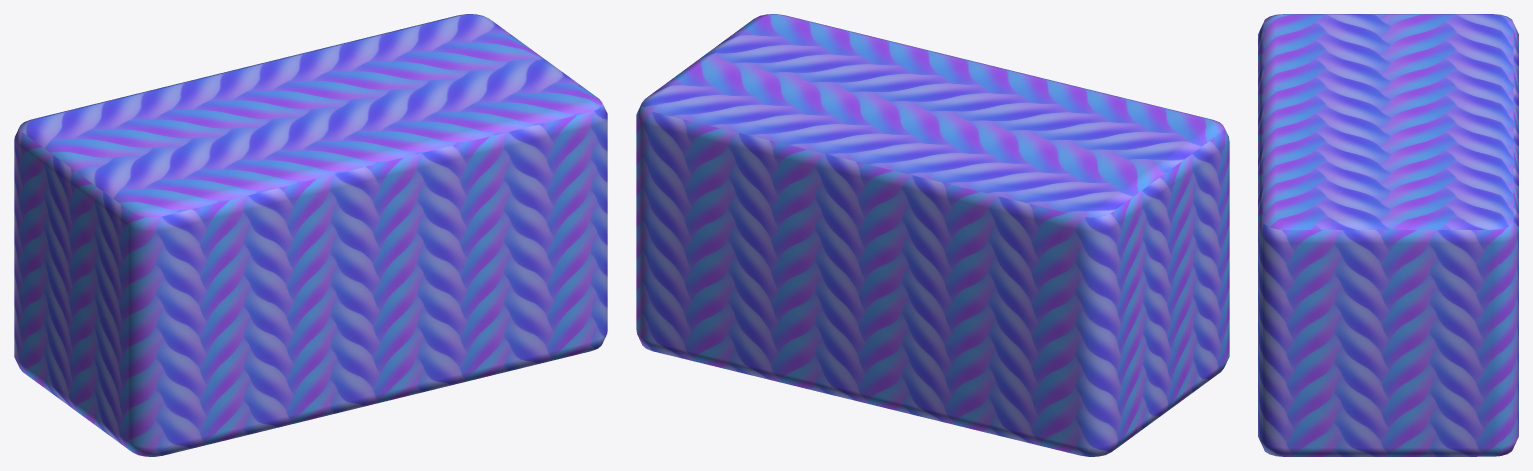
File: Box8 noline.fbx
3 views of the same model, side by side, from view 1: azimuth 30°, elevation 25°; view 2: azimuth 150°, elevation 25°; view 3: azimuth 270°, elevation 25° (orthographic). The views are drawn at different scales.
Parts seen in each view (by area): view 1: Box8_noline; view 2: Box8_noline; view 3: Box8_noline.
Boxes of the visible parts, x1=… form: Box8_noline: x1=14, y1=14, x2=607, y2=456; Box8_noline: x1=636, y1=14, x2=1229, y2=456; Box8_noline: x1=1258, y1=14, x2=1518, y2=456.
Bounding box in the file's own units: 400 × 200 × 200.
